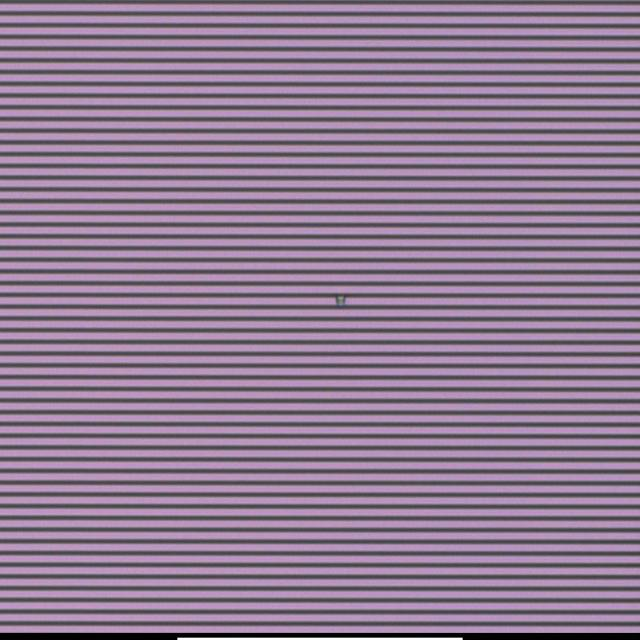03_intrusion: (334, 294, 352, 311)
